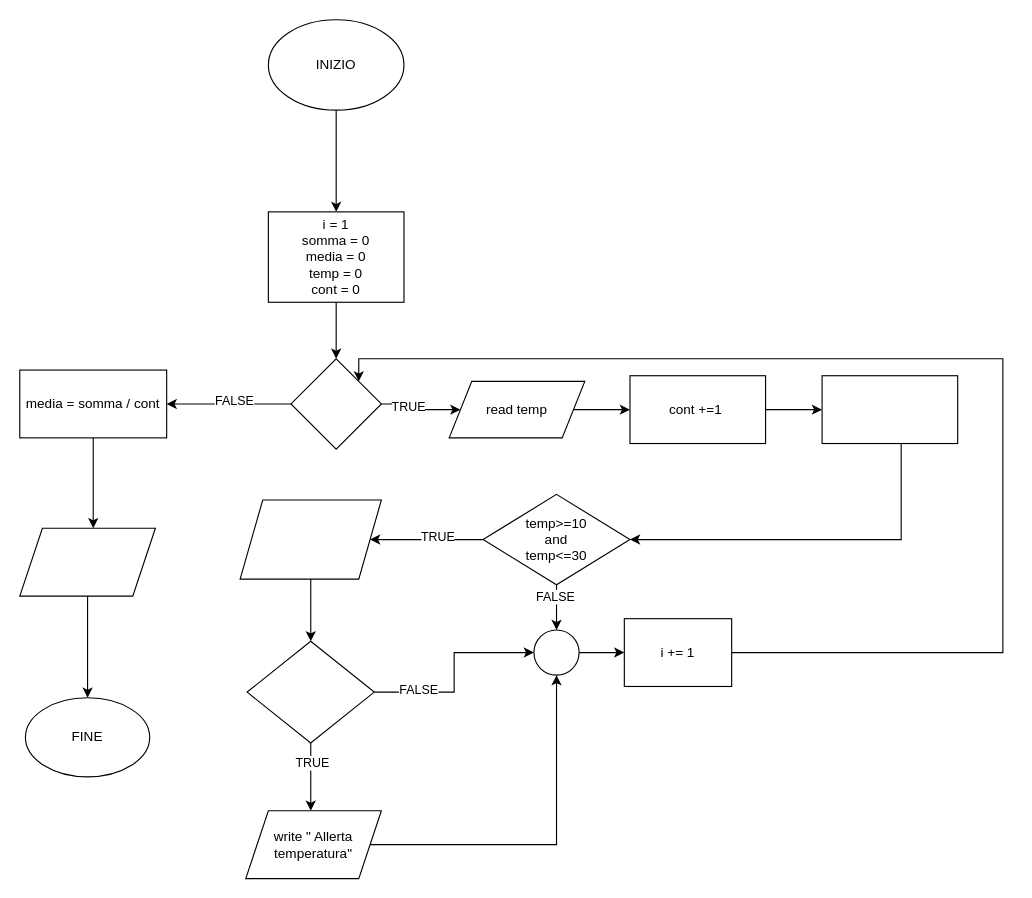
The diagram is 1032 pixels wide and 898 high, and some of its shapes have lost their labels. The box of each missing label's shape, as (x1, y1, x2, y2) in pixels:
i<=7: (290, 358, 381, 449)
somma + = temp: (821, 375, 958, 444)
temp<=5 or temp>=35: (246, 640, 374, 743)
write "temperatura nella norma": (239, 499, 381, 579)
write media: (19, 527, 155, 596)
